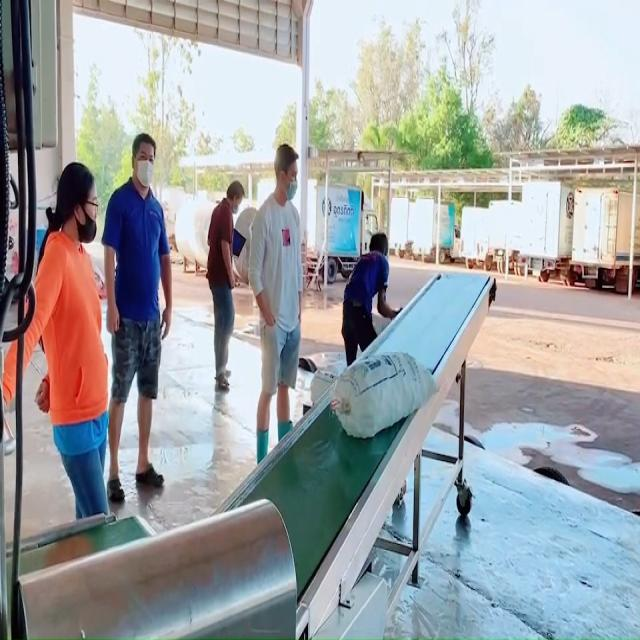ice-bag: (321, 345, 443, 441)
